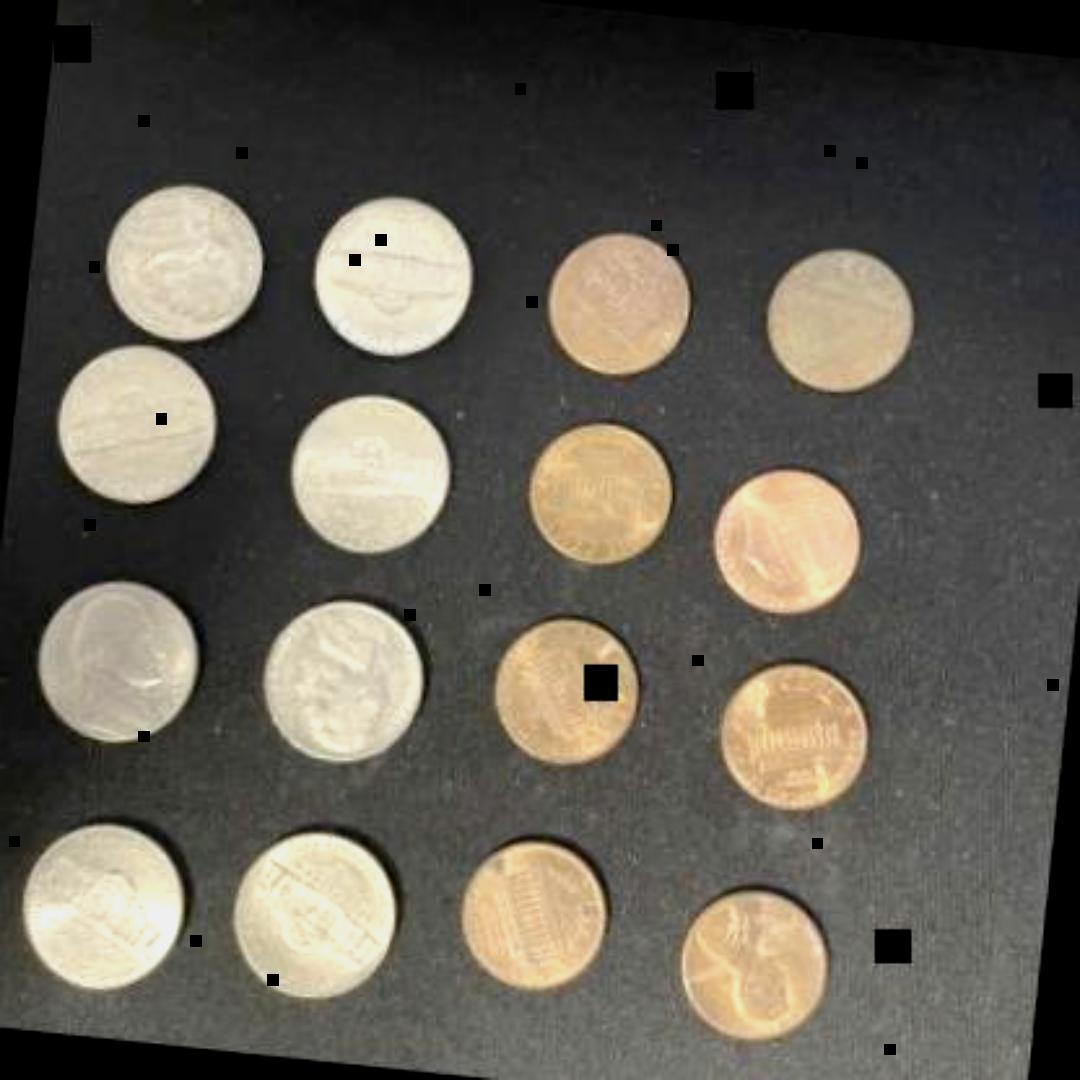Nickel: (23, 556, 209, 750), (4, 813, 193, 999), (218, 819, 402, 1003), (42, 335, 226, 519), (252, 587, 428, 771), (277, 380, 453, 562), (298, 188, 478, 364), (98, 179, 270, 345)
Penny: (471, 604, 647, 770), (662, 880, 838, 1046), (700, 652, 870, 820), (693, 456, 869, 618), (442, 823, 610, 989), (742, 236, 914, 398), (509, 413, 675, 573), (532, 220, 694, 380)
